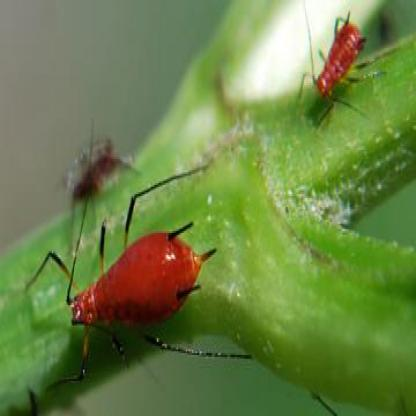aphid: (22, 171, 258, 374), (296, 10, 379, 132)
